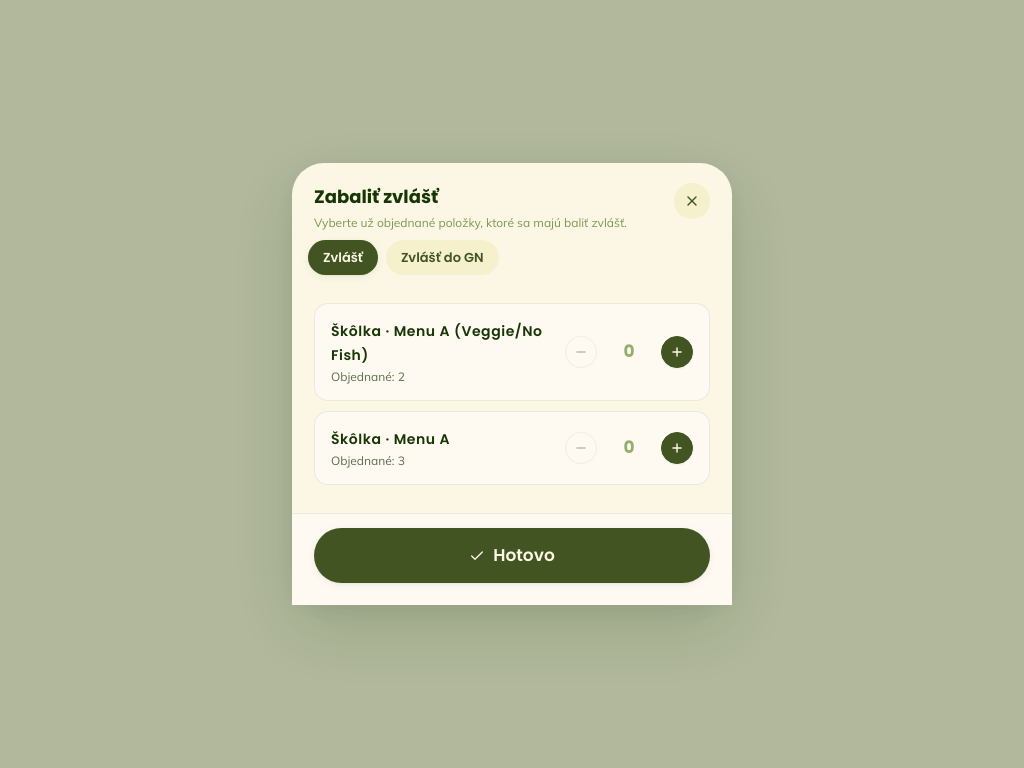
Scenario: PackSeparatelySelector › keeps merged and remainder counters independent while sharing the menu total
Click the button named "+" next to "Menu A (Veggie/No Fish)": [677, 352] box left=661, top=336, right=693, bottom=368
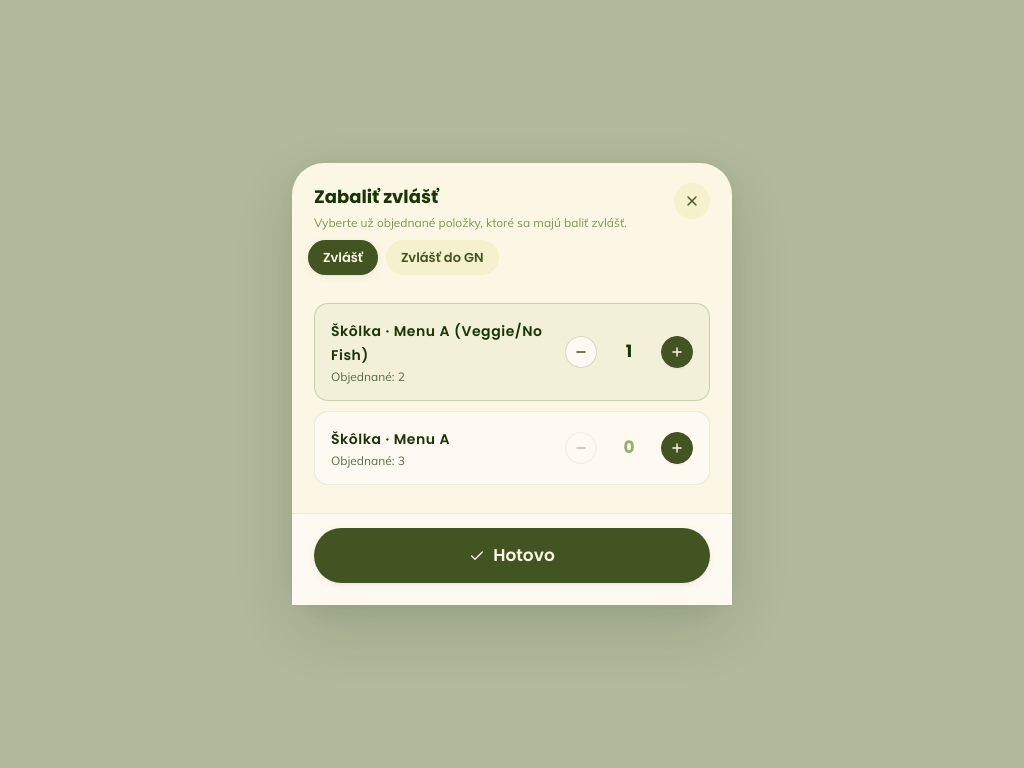
Expected: the 2nd field named "Počet balení zvlášť pre A" holds "0", left=607, top=435, right=651, bottom=461
Expected: the field named "Počet balení zvlášť pre A" below "Menu A (Veggie/No Fish)" holds "1", left=607, top=339, right=651, bottom=365
Click the 2nd button named "+": [677, 448] box left=661, top=432, right=693, bottom=464
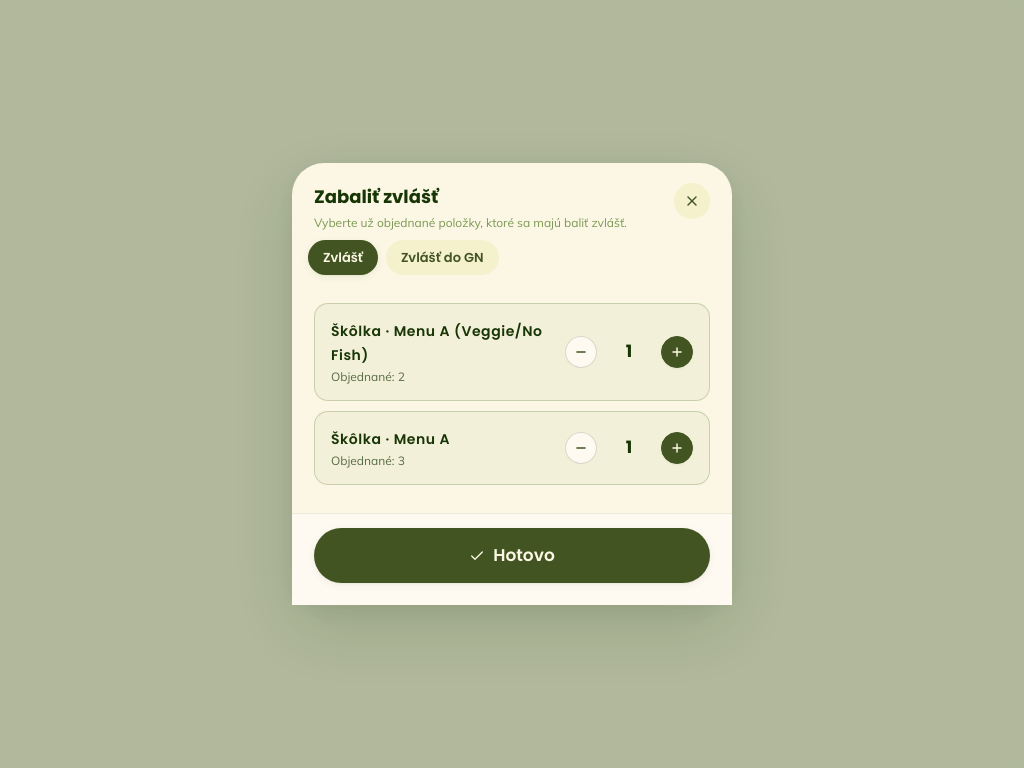
Expected: the field named "Počet balení zvlášť pre A" below "Menu A (Veggie/No Fish)" holds "1", left=607, top=339, right=651, bottom=365
Expected: the 2nd field named "Počet balení zvlášť pre A" holds "1", left=607, top=435, right=651, bottom=461
